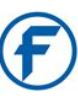Fisher: (14, 24, 62, 82)
